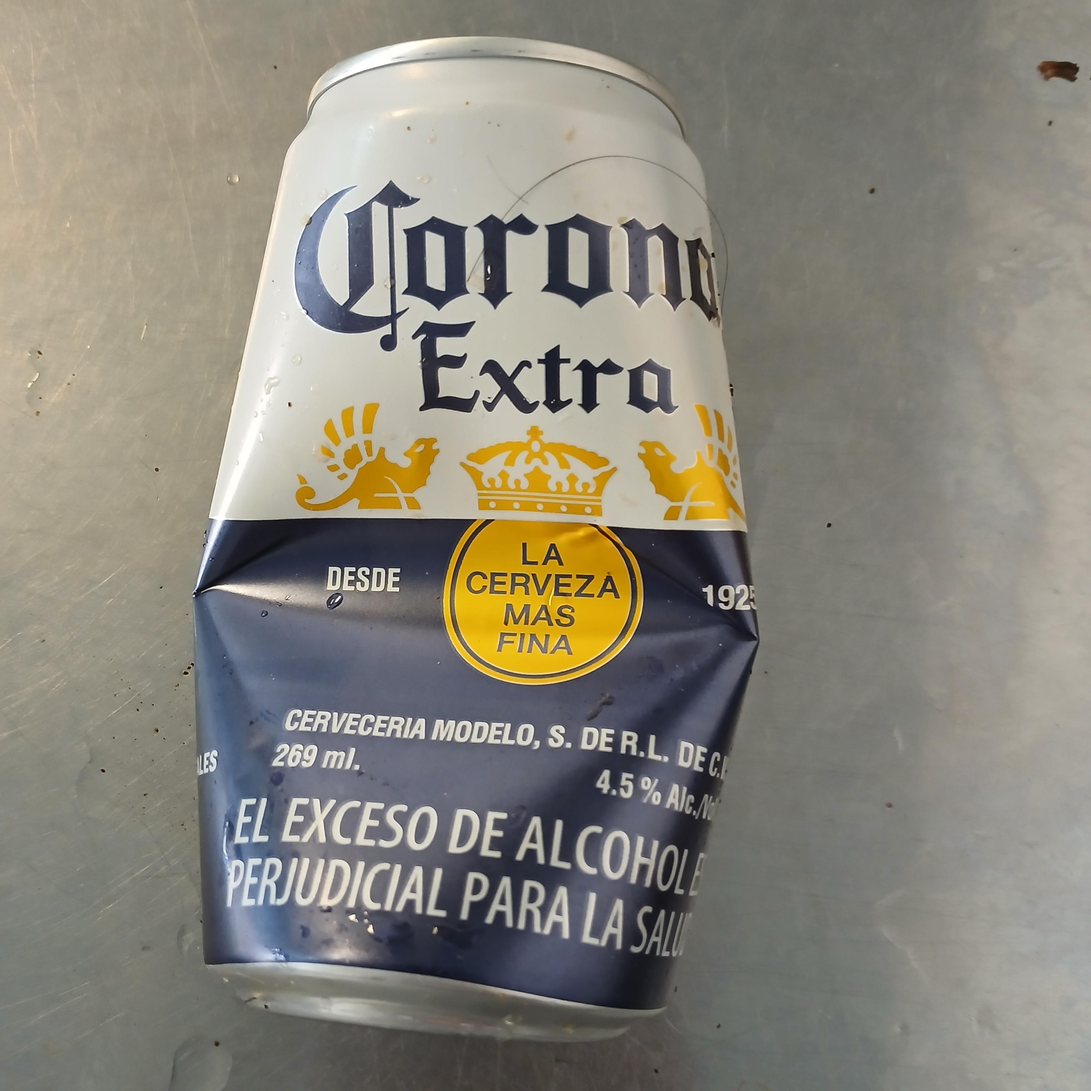Metal: (195, 37, 758, 1042)
